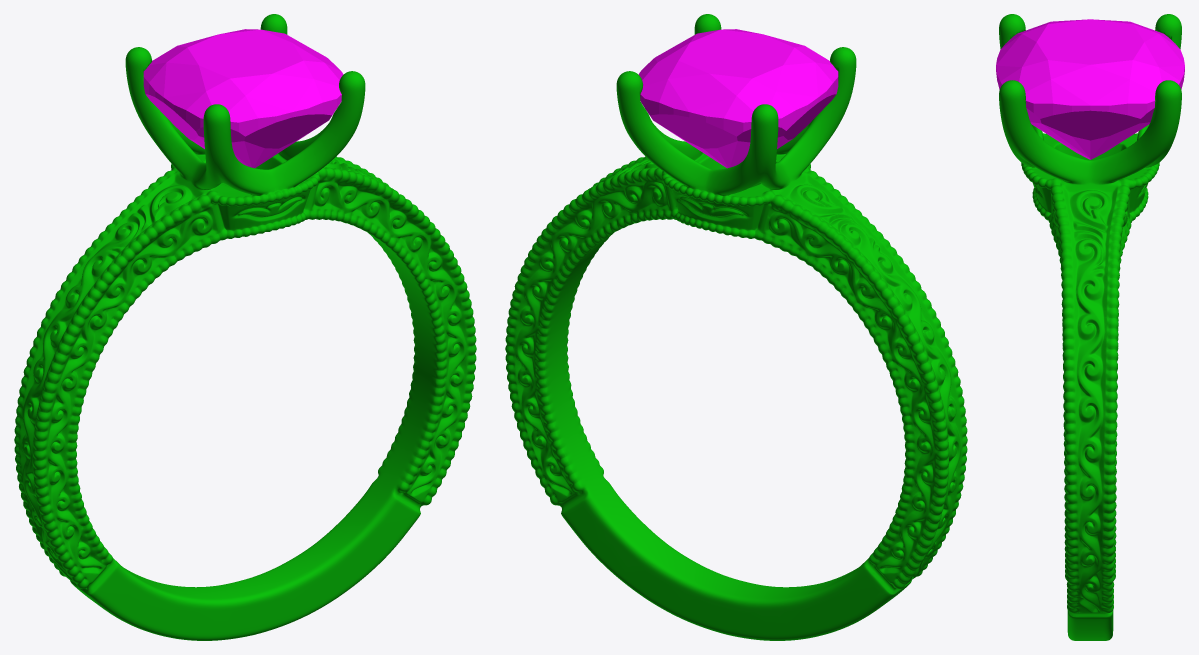
The model's file is BE132_CU_200ct_RENDER.glb.
The picture shows the model from 3 angles, left to right: view 1: azimuth 30°, elevation 25°; view 2: azimuth 150°, elevation 25°; view 3: azimuth 270°, elevation 25°; orthographic projection.
Visible parts, largest first — view 1: Metal 01, CS_Diamond_Cushion; view 2: Metal 01, CS_Diamond_Cushion; view 3: Metal 01, CS_Diamond_Cushion.
Boxes of the visible parts, x1=… form: Metal 01: x1=14, y1=14, x2=476, y2=640; CS_Diamond_Cushion: x1=143, y1=29, x2=343, y2=168; Metal 01: x1=505, y1=14, x2=967, y2=640; CS_Diamond_Cushion: x1=638, y1=29, x2=838, y2=168; Metal 01: x1=999, y1=14, x2=1181, y2=640; CS_Diamond_Cushion: x1=996, y1=19, x2=1184, y2=159.
Size of the model in its own units: 20.26 by 25.19 by 7.5.
